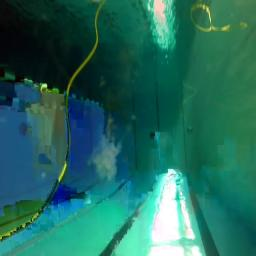Full: (150, 131, 163, 139), (186, 126, 195, 133)
